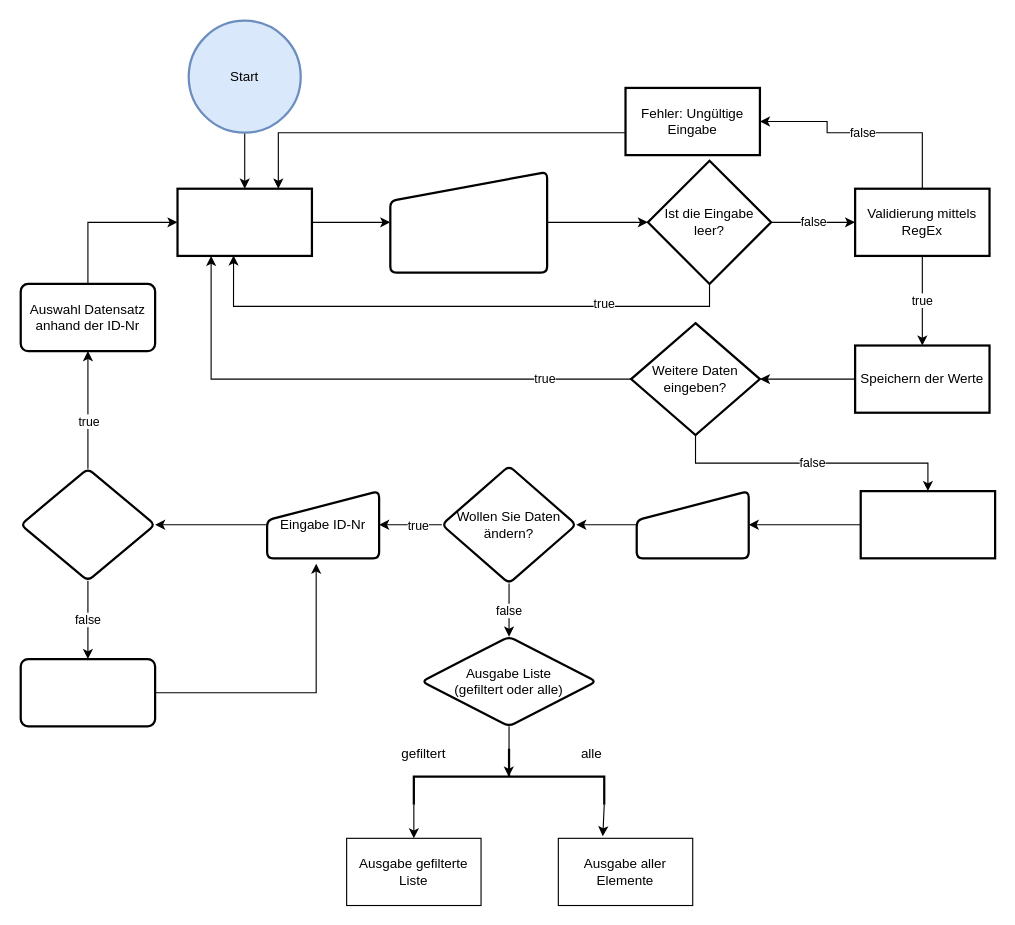
This 1015x925 diagram has some shape labels left out. Here are the shapes that lost their labels. From the top down, the centre of each, then its label:
At (x=244, y=221): "Eingabe der Daten".
At (x=468, y=221): "Vorname, Nachname, Straße, PLZ, Ort".
At (x=87, y=524): "Ist die ID-Nr vorhanden?".
At (x=692, y=524): "Auswahl Filterkriterium".
At (x=927, y=524): "Filtern der Liste".
At (x=87, y=692): "Fehler: ID nicht vorhanden".
